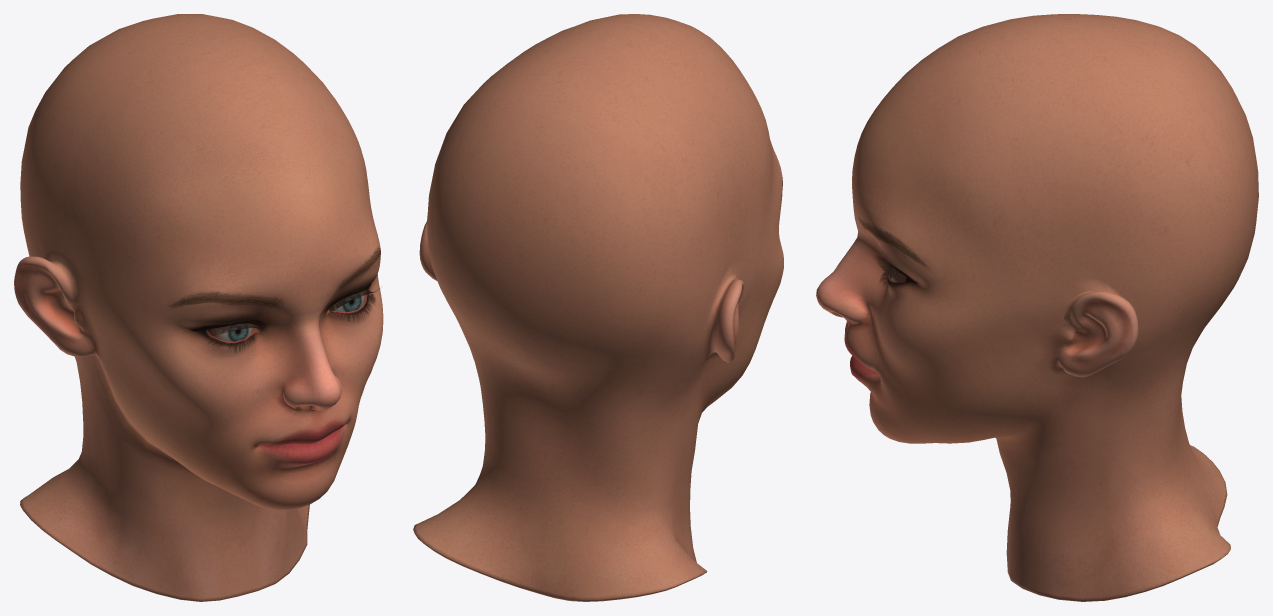
The model's file is anatomical-morph-viewer.glb.
3 views of the same model, side by side, from view 1: azimuth 30°, elevation 25°; view 2: azimuth 150°, elevation 25°; view 3: azimuth 270°, elevation 25° (orthographic).
Visible parts, largest first — view 1: mesh_head, eyelashes; view 2: mesh_head; view 3: mesh_head.
Part boxes in pixels (x1,y1,x2,y2): mesh_head: [14, 14, 383, 601]; eyelashes: [206, 289, 377, 352]; mesh_head: [413, 14, 783, 601]; mesh_head: [816, 14, 1258, 601].
Bounding box in the file's own units: 0.1766 × 0.2889 × 0.2162.
2 materials, 2 textured.
